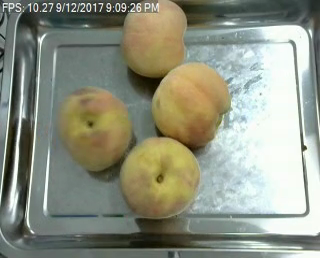Peach: (151, 60, 230, 147), (119, 135, 200, 218), (57, 86, 132, 172), (120, 0, 188, 79)
